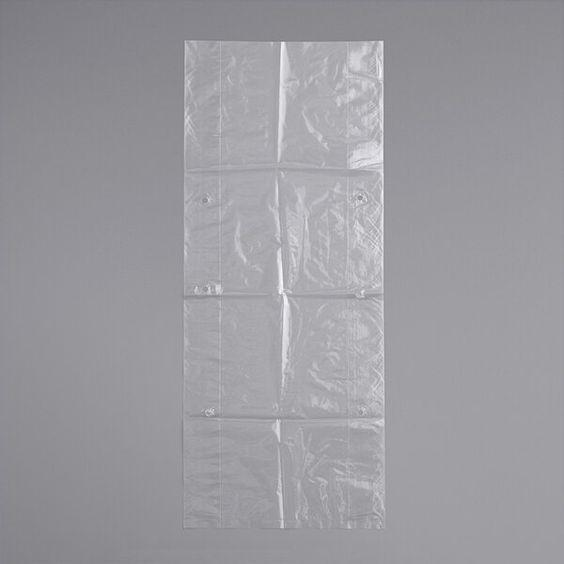LDPE: (181, 38, 387, 531)
